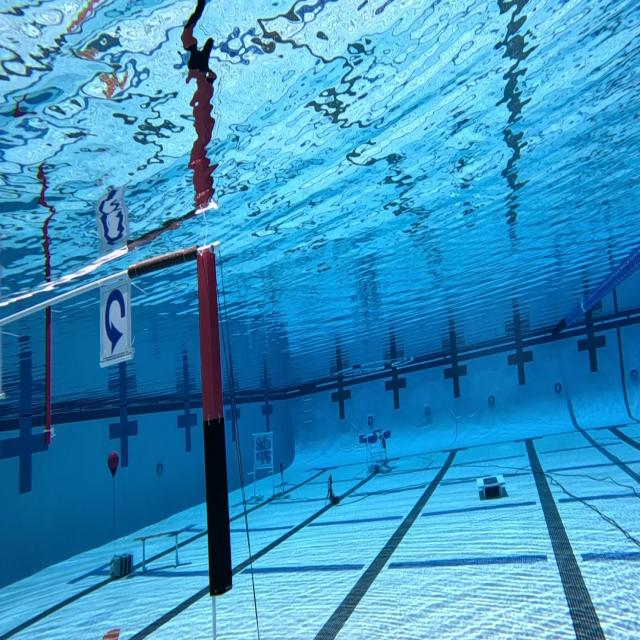blue_side: (95, 280, 135, 371)
